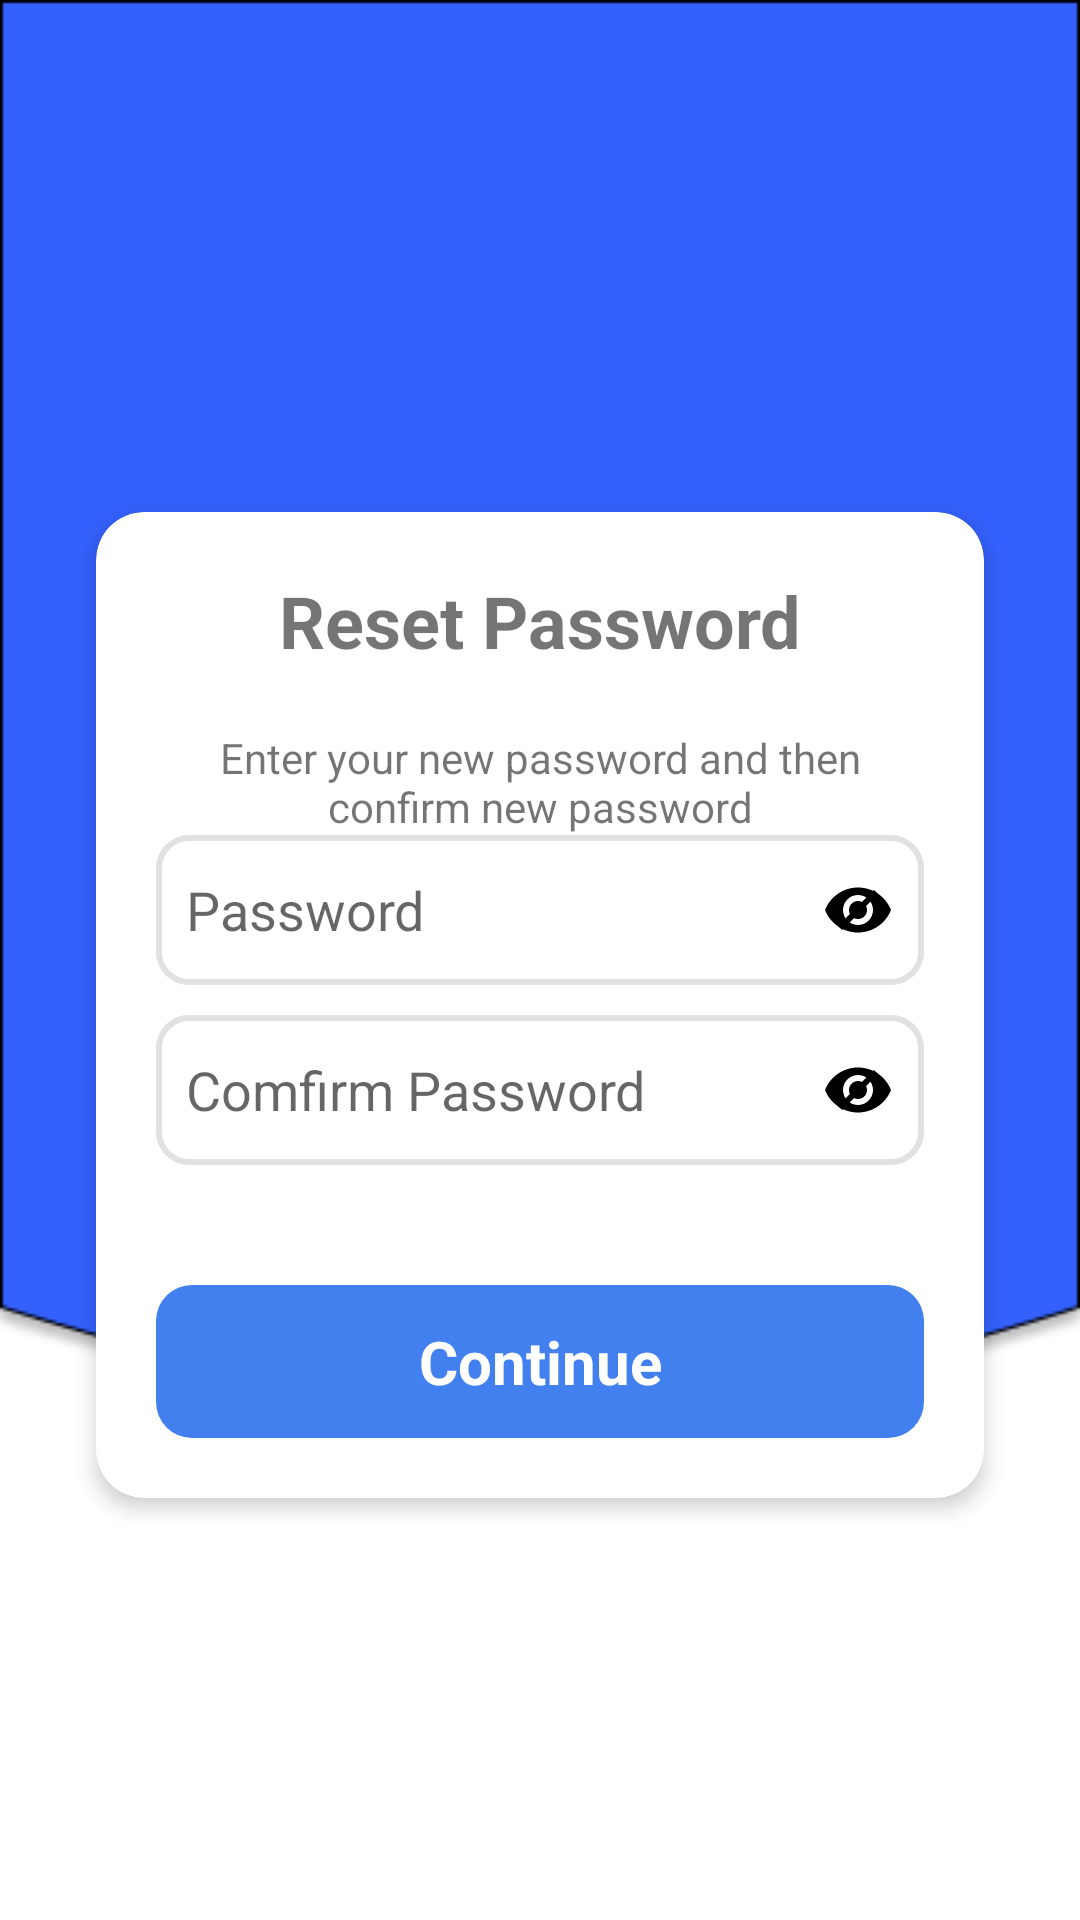

Locate icon controls on the screen. Image size 1080×1920, boxes as (x1, y1, x2, y2).
visibility off: (825, 887, 891, 933), (825, 1067, 891, 1113)
